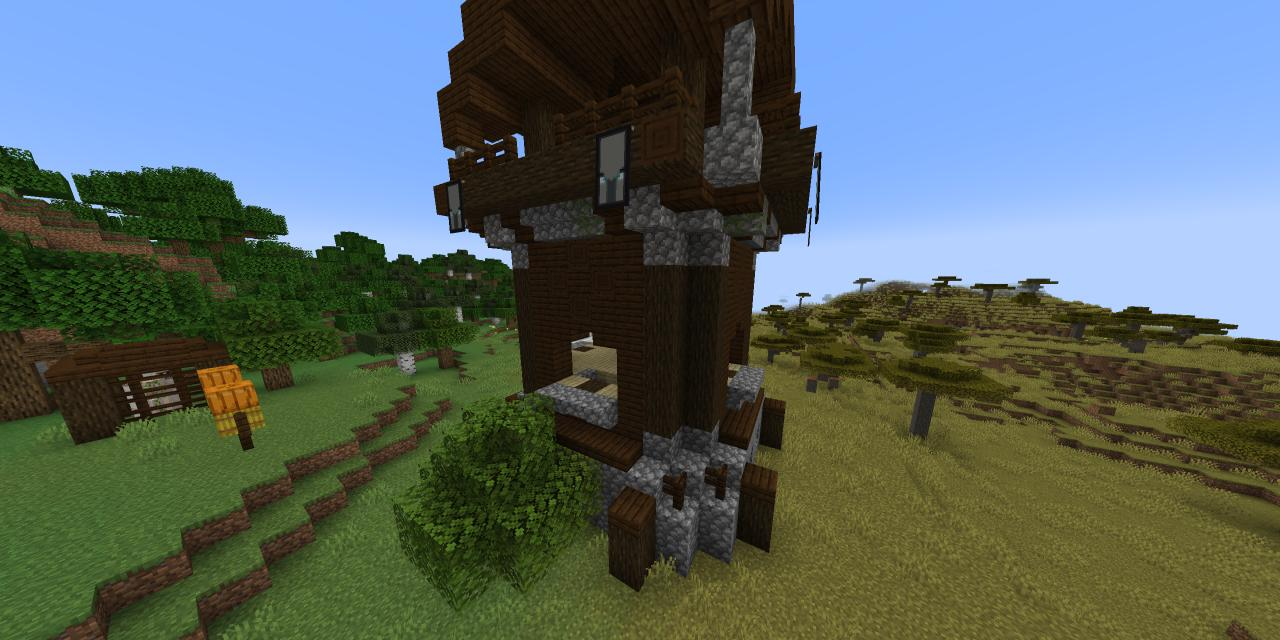pillager outpost: (424, 0, 838, 596)
